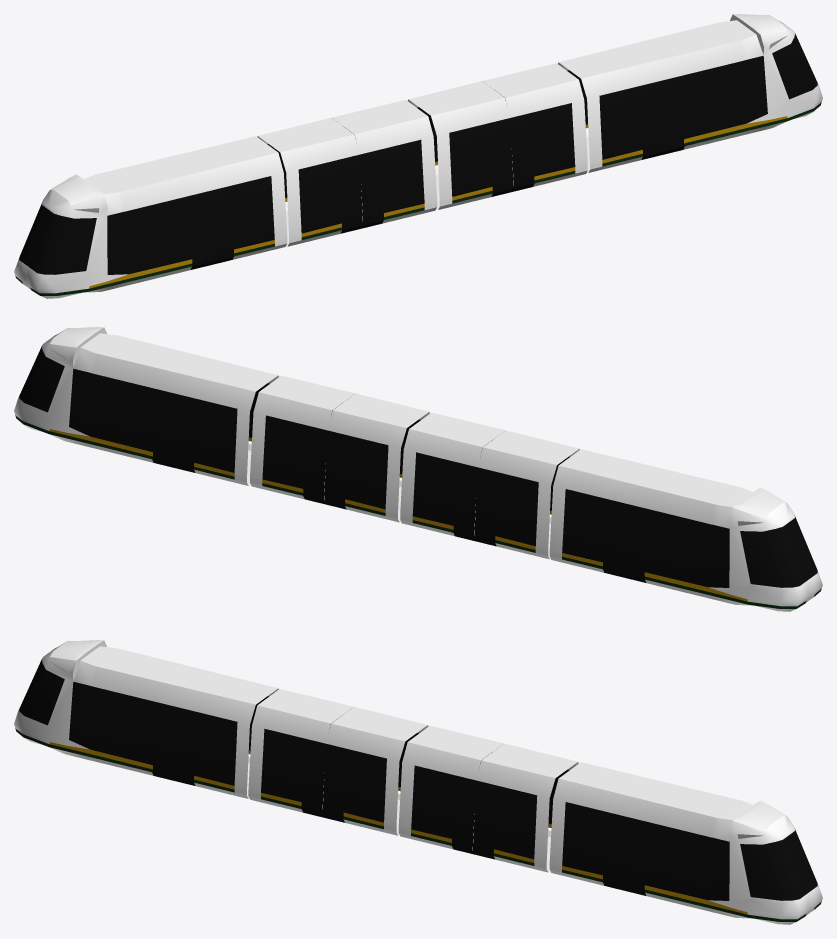
File: tren.fbx
The picture shows the model from 3 angles, top to bottom: view 1: azimuth 30°, elevation 25°; view 2: azimuth 150°, elevation 25°; view 3: azimuth 330°, elevation 25°; orthographic projection.
Visible parts, largest first — view 1: Box037; view 2: Box037; view 3: Box037.
Part boxes in pixels (x1,y1,x2,y2): Box037: (14, 14, 822, 298); Box037: (14, 327, 822, 611); Box037: (14, 640, 822, 924).
Size of the model in its own units: 734 by 82.79 by 65.73.
